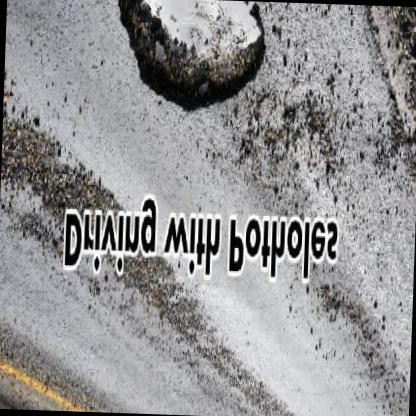pothole: (108, 0, 268, 121)
